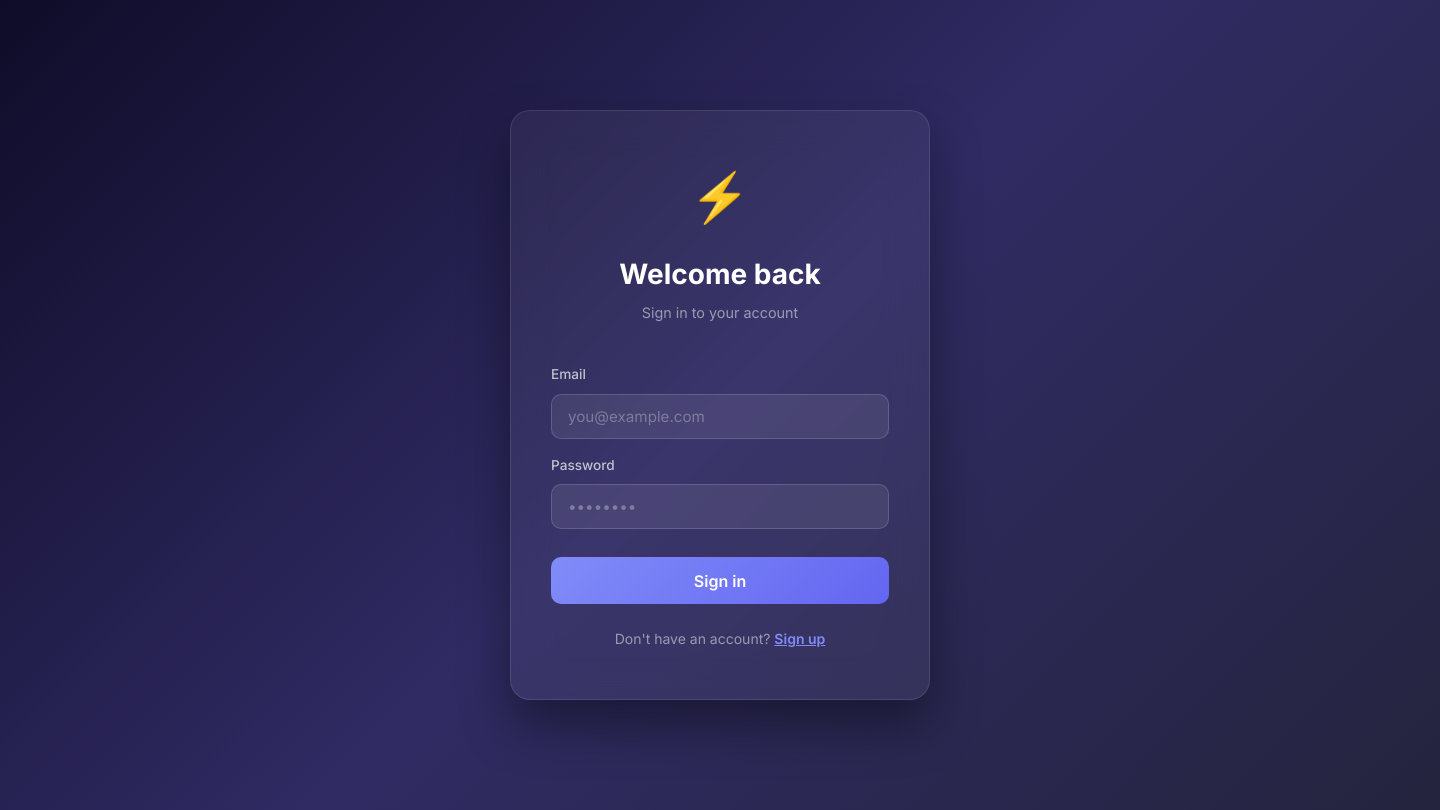
Test: LoginPage › disables button while submitting
Type "a@b.com" into the field labelled "Email".
click(720, 416); type("a@b.com")  # box [551, 394, 889, 438]
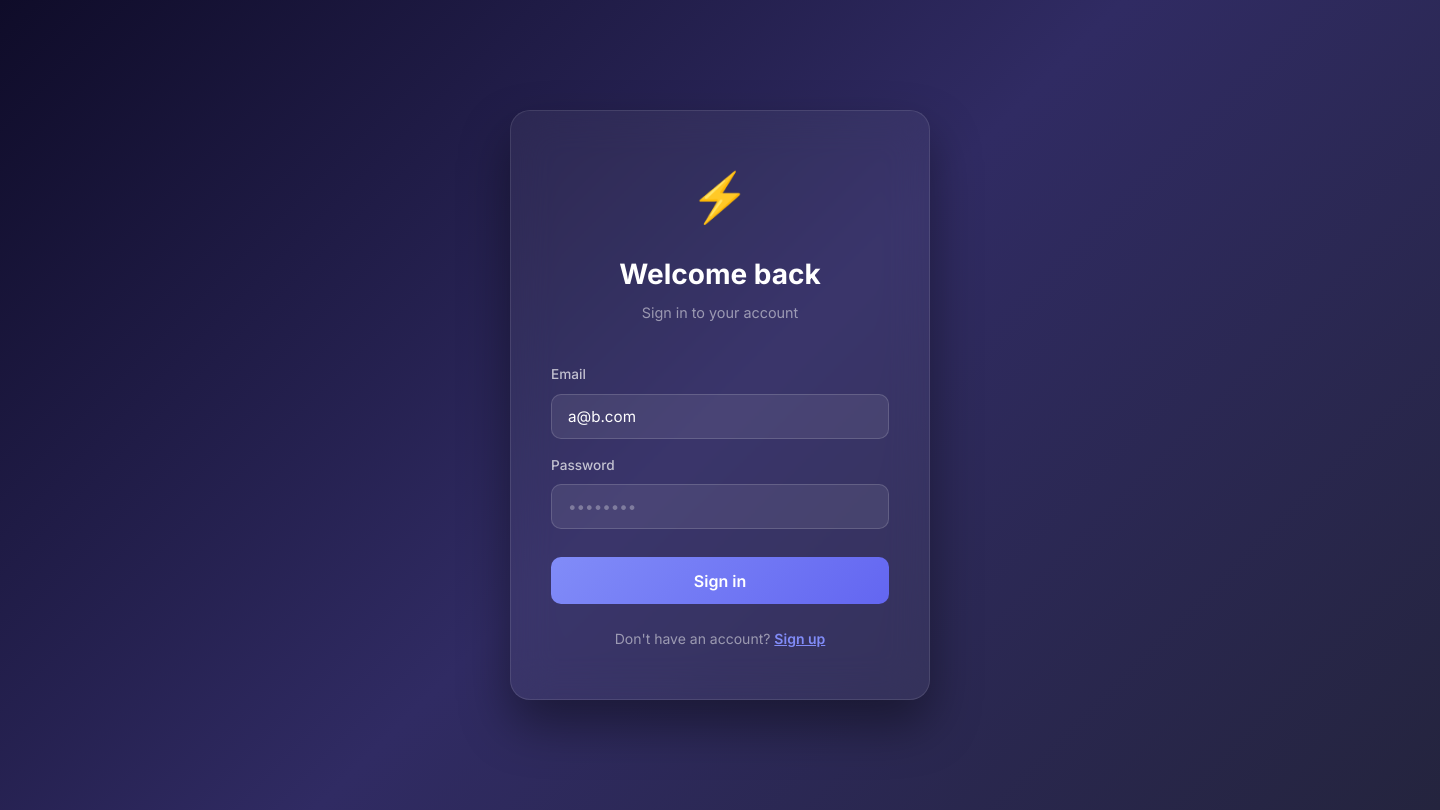
Type "pass1234" into the password field labelled "Password".
click(720, 507); type("pass1234")  # box [551, 484, 889, 529]
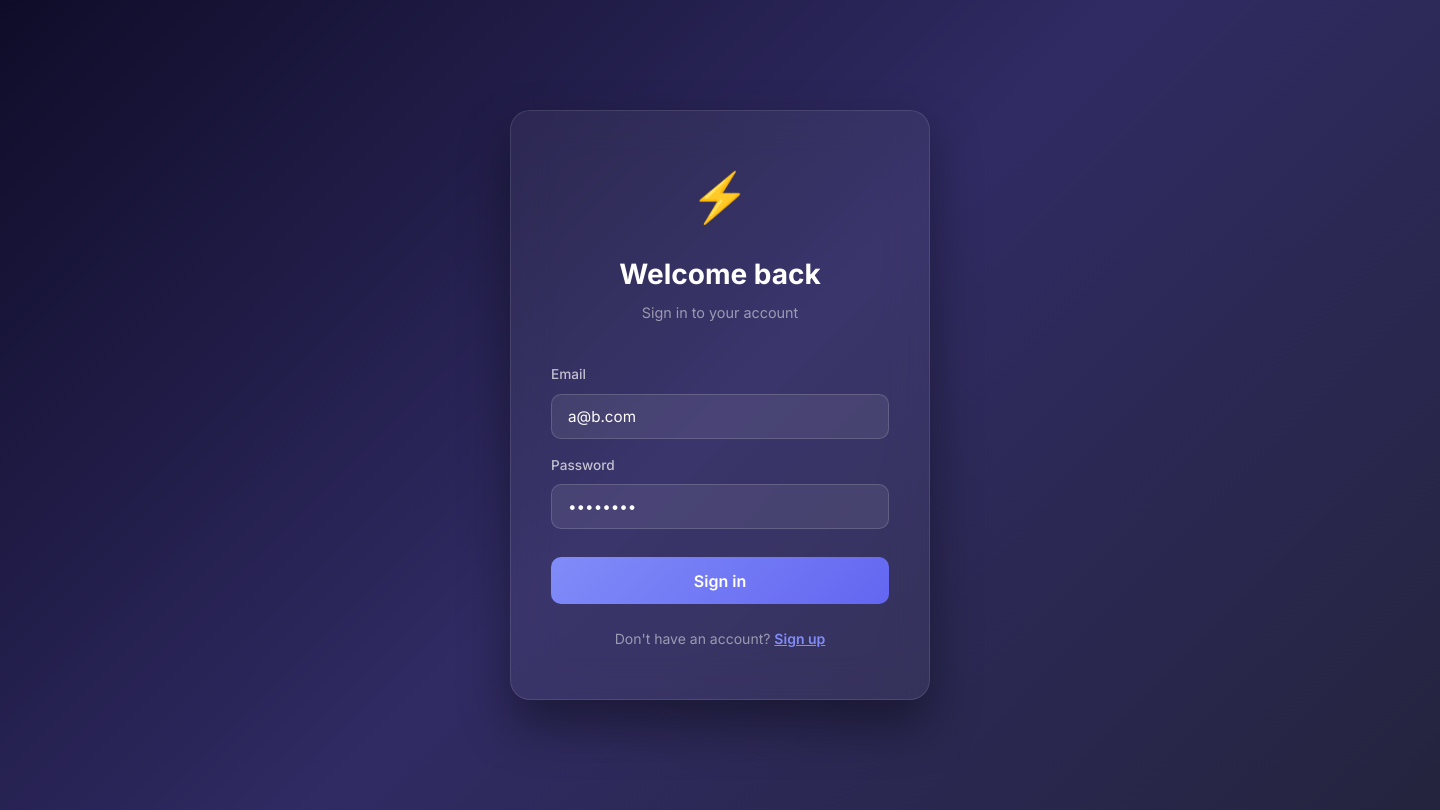
Click the button "Sign in".
click(720, 581)  # box [551, 557, 889, 604]
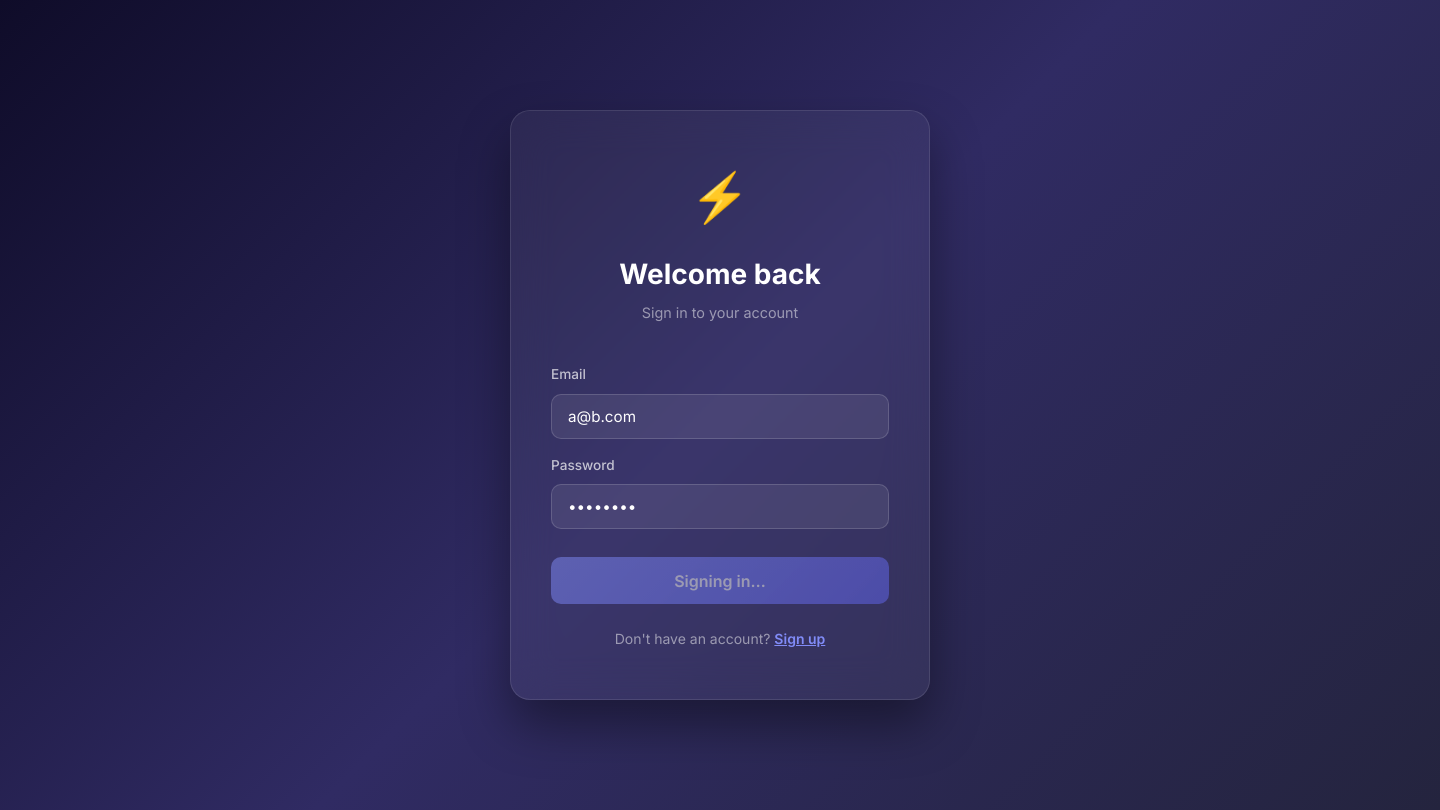
Expected: the button "Signing in…" is disabled, [551, 557, 889, 604]
